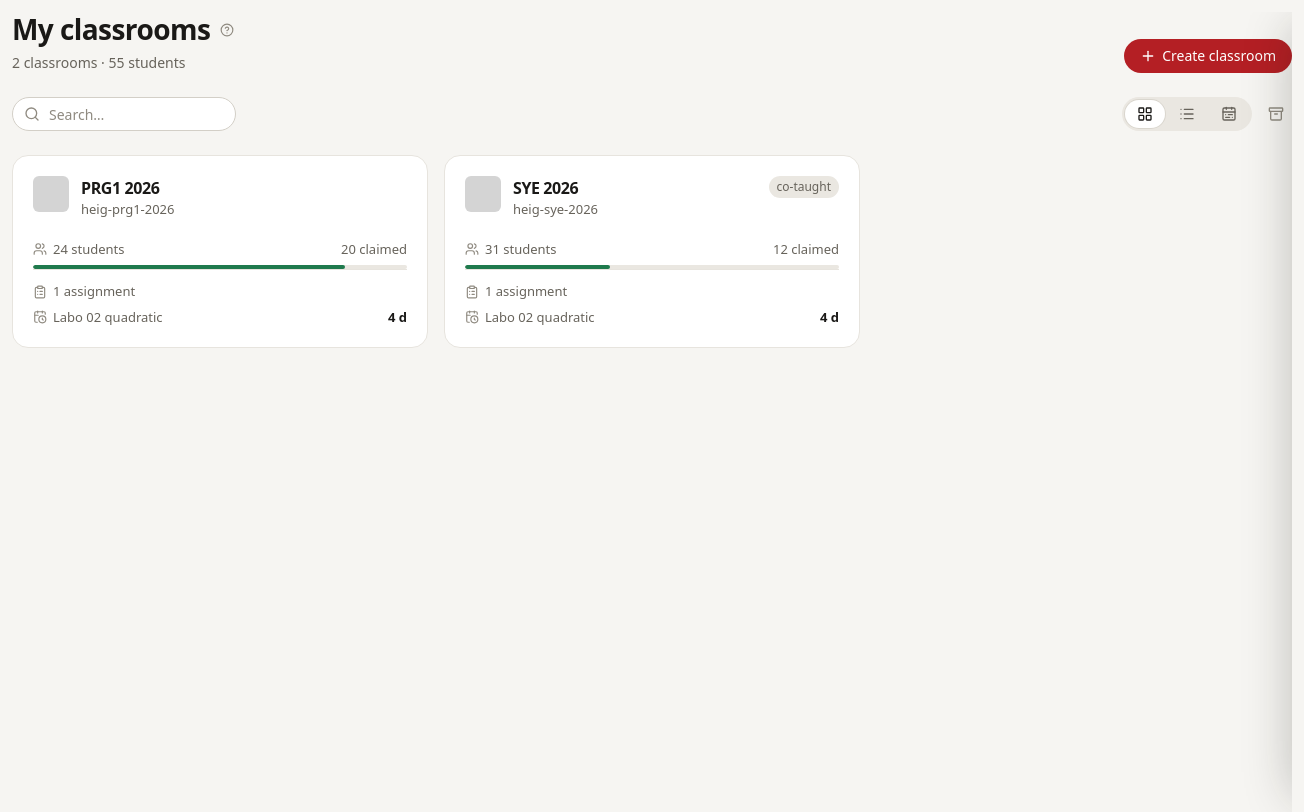
Test: TeacherHome › switches to the list view and remembers the choice for the next visit
Expected: the heading "PRG1 2026" is shown, [81, 177, 160, 199]
What coordinates should you click on to do the following:
click the radio button named "List view"
I would click on:
 (1187, 114)
Its box is [1167, 100, 1207, 128].
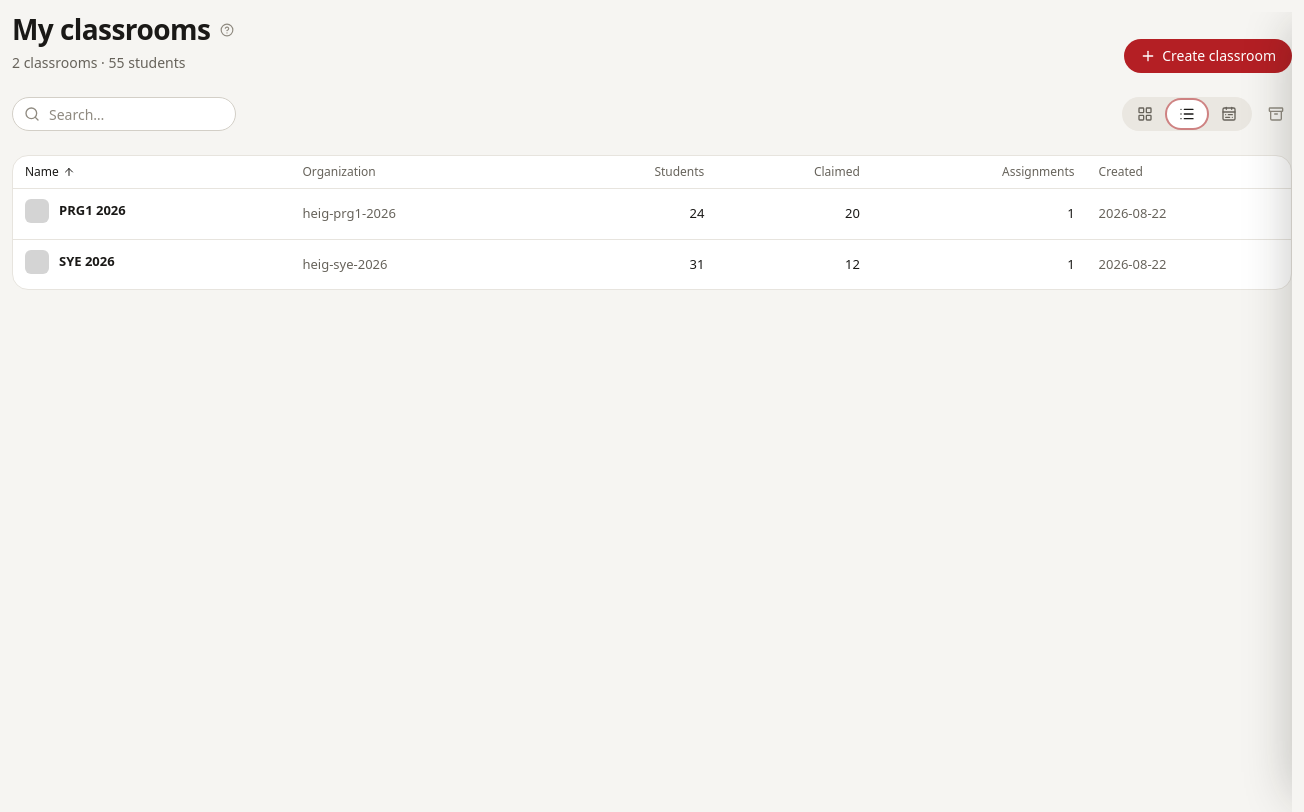
Now the table is shown, box [13, 156, 1291, 289]
Now the column heading "Organization" is shown, box [290, 156, 552, 188]
